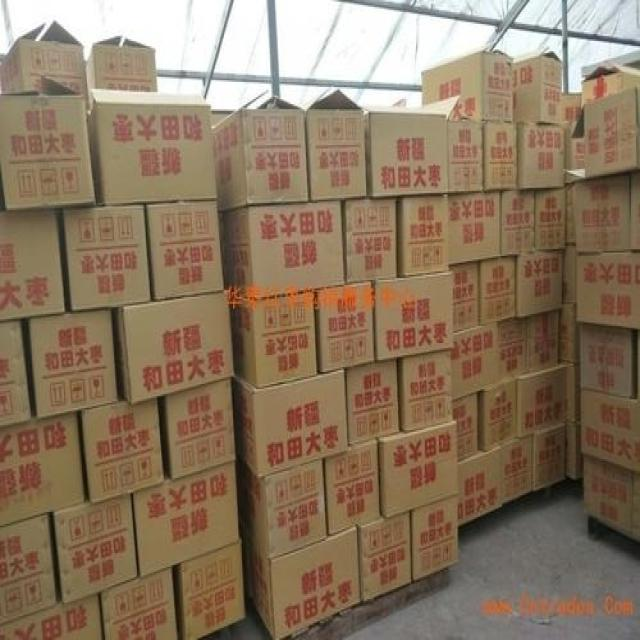box: (87, 87, 216, 207), (114, 292, 234, 406), (0, 75, 95, 208), (133, 463, 238, 579), (225, 200, 346, 299), (212, 89, 308, 212), (239, 370, 348, 478), (256, 526, 360, 638), (364, 96, 460, 198), (0, 411, 84, 527), (29, 311, 118, 420), (63, 205, 151, 311), (55, 493, 137, 604), (82, 399, 165, 503), (147, 200, 225, 300), (378, 422, 457, 519), (252, 459, 328, 558), (239, 292, 317, 387), (421, 41, 513, 121), (0, 210, 65, 323), (165, 379, 236, 480), (374, 271, 454, 360), (306, 89, 367, 201), (178, 543, 247, 640), (0, 515, 56, 625), (571, 90, 640, 179), (0, 22, 87, 92), (100, 568, 178, 640), (316, 282, 375, 375), (324, 439, 380, 536), (356, 512, 411, 604), (576, 251, 640, 328), (580, 391, 640, 473), (346, 360, 402, 444), (344, 198, 397, 283), (0, 594, 102, 638), (398, 350, 452, 432), (573, 172, 628, 251), (451, 321, 502, 403), (398, 195, 449, 276), (580, 323, 635, 398), (584, 457, 634, 538), (448, 191, 500, 268), (86, 36, 159, 90), (412, 495, 457, 582), (513, 48, 562, 125), (457, 445, 502, 524), (0, 319, 31, 428), (517, 364, 564, 435), (515, 251, 564, 319), (517, 123, 563, 189), (480, 375, 517, 451), (447, 119, 483, 195), (479, 254, 516, 324), (500, 432, 534, 505), (500, 189, 536, 256), (582, 61, 640, 102), (483, 123, 516, 193), (532, 425, 566, 492), (525, 311, 559, 372), (453, 261, 479, 333), (453, 393, 479, 463), (535, 188, 564, 249), (498, 319, 526, 381), (558, 302, 580, 362), (564, 123, 585, 183), (564, 422, 582, 481), (628, 171, 640, 251), (564, 364, 580, 422), (563, 246, 576, 302), (564, 186, 575, 242), (562, 94, 582, 123), (632, 473, 640, 541)
